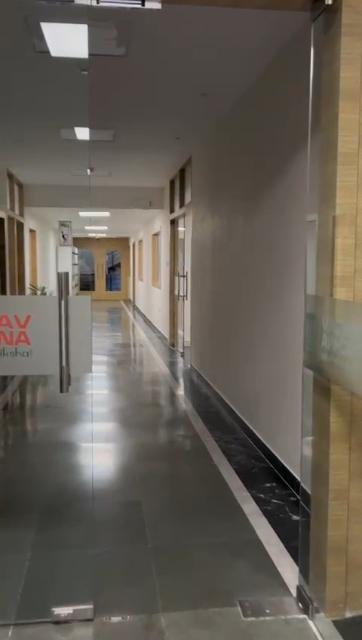door: (163, 172, 191, 354), (80, 239, 128, 301)
floor: (0, 307, 328, 640)
wall: (198, 28, 307, 479)
